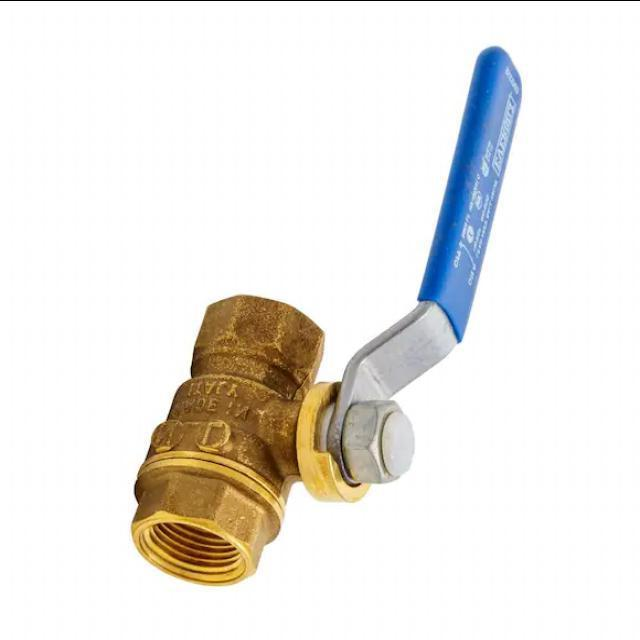opened_valve: (127, 41, 525, 592)
